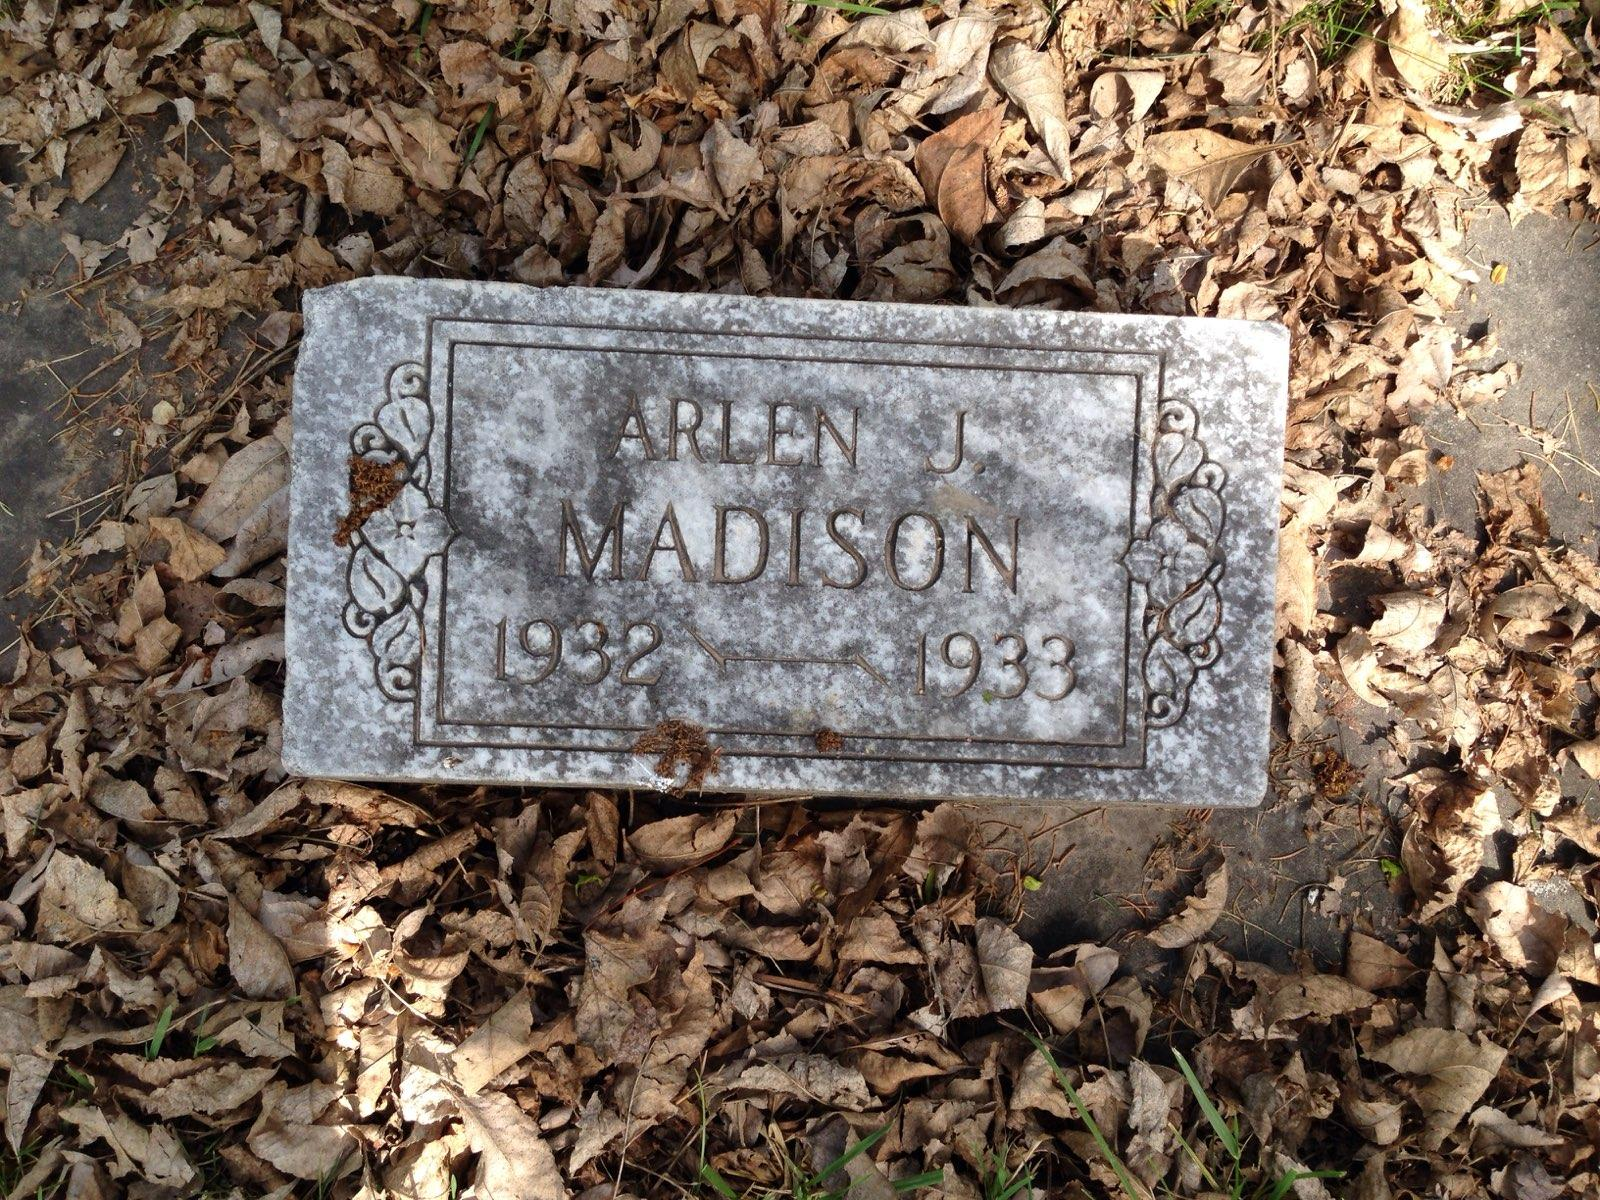flat: (251, 241, 1323, 836)
